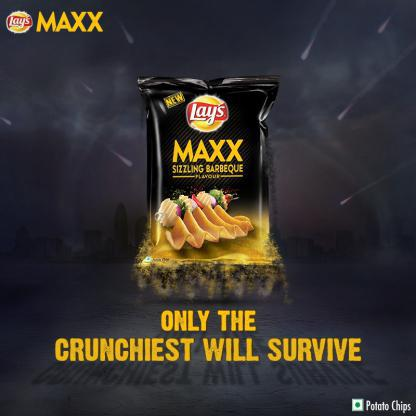maxx_sizzling_barbeque: (137, 79, 277, 267)
